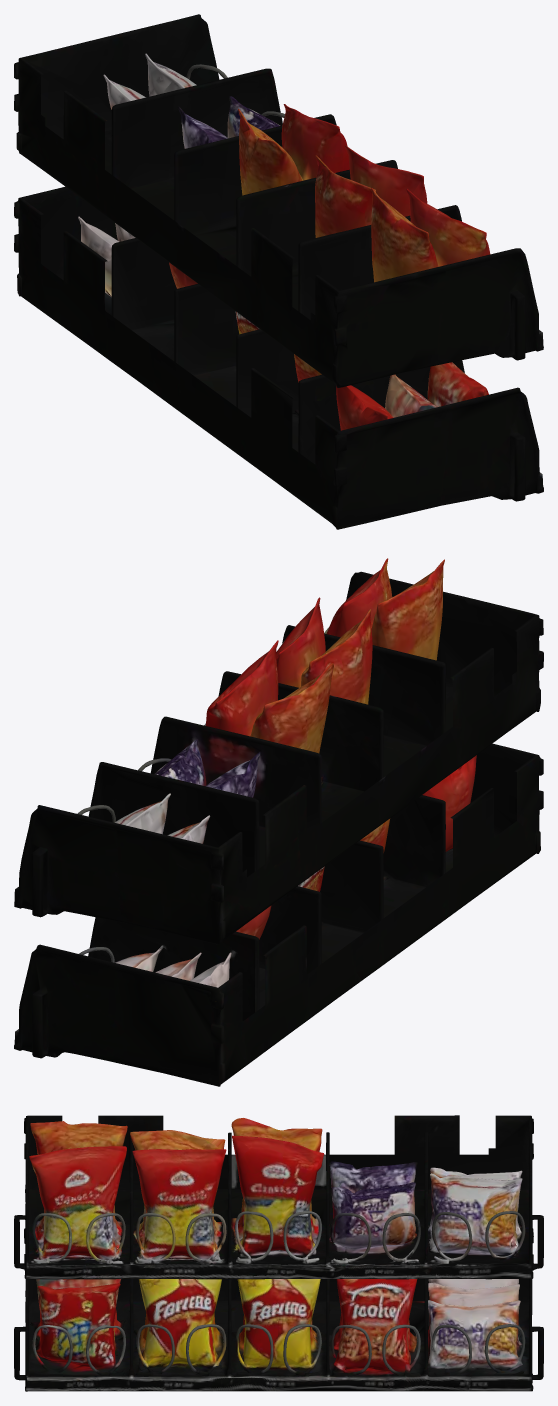
Rendered from product_shelf_06.glb.
3 renders of one model, top to bottom at view 1: azimuth 30°, elevation 25°; view 2: azimuth 150°, elevation 25°; view 3: azimuth 270°, elevation 25°, orthographic. The views are drawn at different scales.
Parts seen in each view (by area): view 1: tripo_node_229d9b6b-ff1e-4b10-8e86-7fa98455d1d3; view 2: tripo_node_229d9b6b-ff1e-4b10-8e86-7fa98455d1d3; view 3: tripo_node_229d9b6b-ff1e-4b10-8e86-7fa98455d1d3.
Part boxes in pixels (<box>): tripo_node_229d9b6b-ff1e-4b10-8e86-7fa98455d1d3: <box>14,14,543,529</box>; tripo_node_229d9b6b-ff1e-4b10-8e86-7fa98455d1d3: <box>14,558,543,1086</box>; tripo_node_229d9b6b-ff1e-4b10-8e86-7fa98455d1d3: <box>14,1115,543,1391</box>.
Bounding box in the file's own units: 0.3594 × 0.4735 × 0.9997.
1 material, 1 textured.
